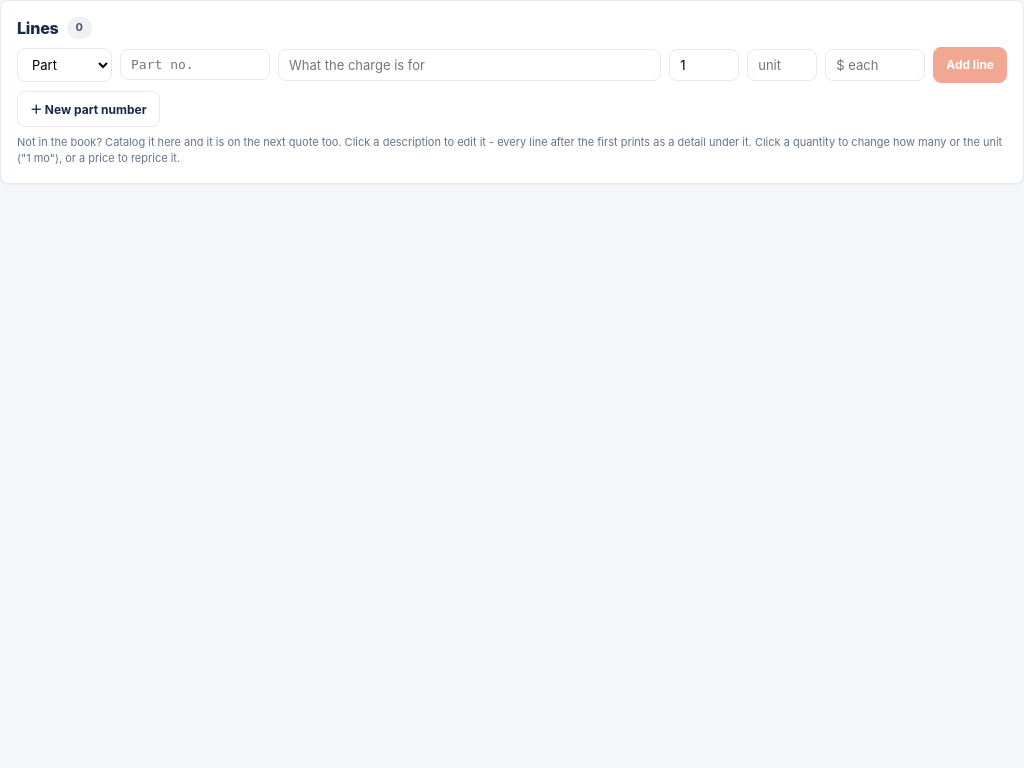
Scenario: a number the book has never heard of › is catalogued from the quote, in the form the parts catalog uses
This screenshot has width=1024, height=768.
Type "NEW-9000" into the field named "Part number" at (195,65), box [120,49,270,80]
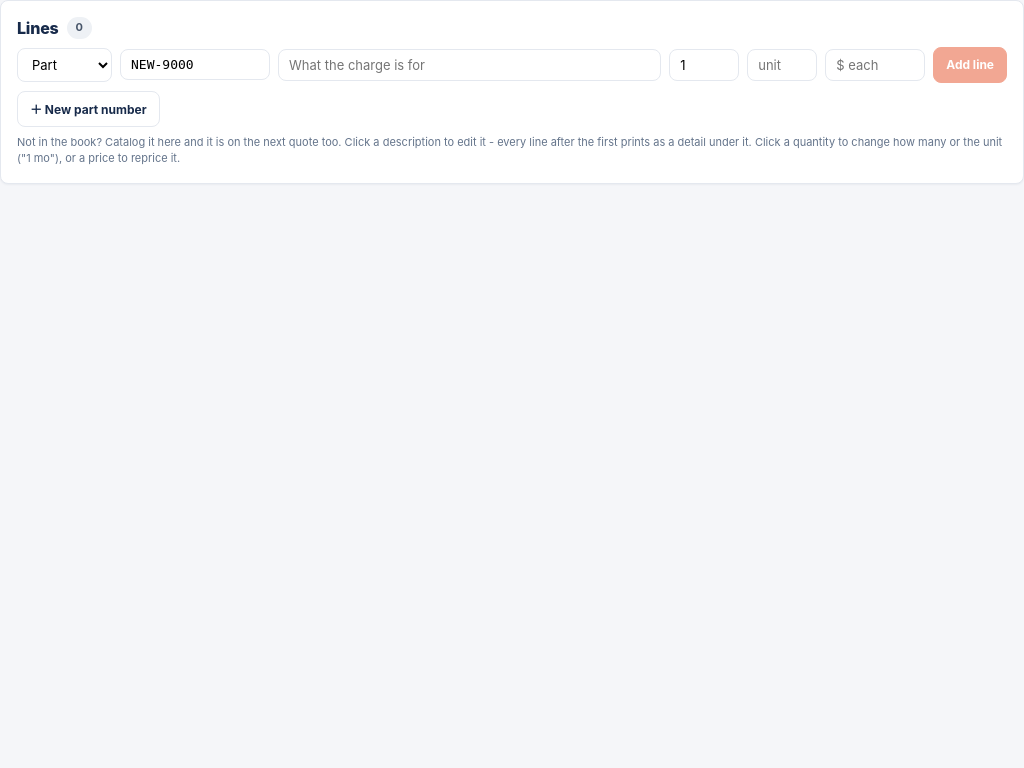
Type "Backing pump" into the field named "Line description" at (470,65), box [278,49,661,81]
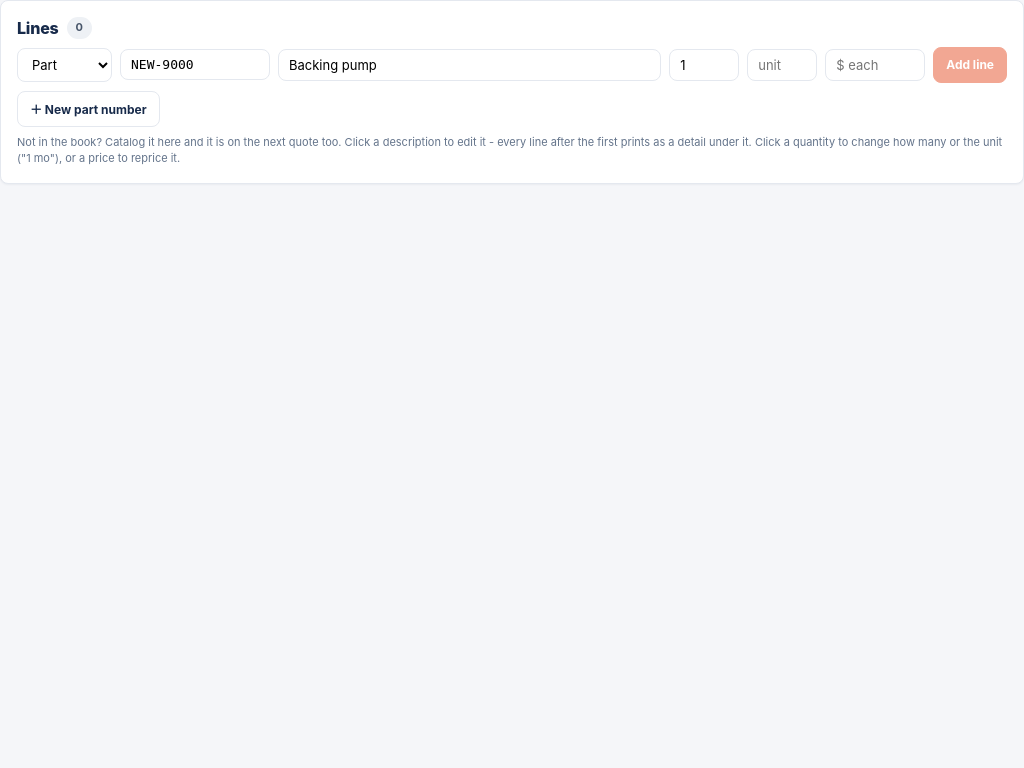
Click the button "＋ New part number" at (88,109), box [17,91,160,127]
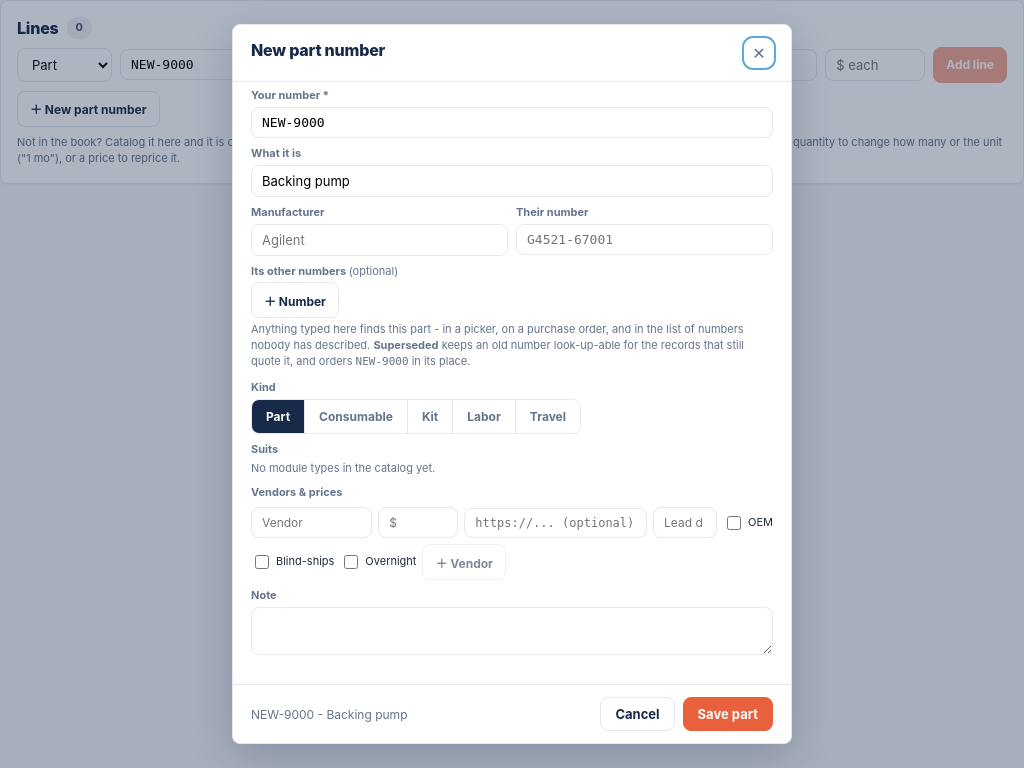
Result: the field labelled "Your number *" holds "NEW-9000" at [251,107,773,138]
Result: the field with placeholder "Agilent 7176 PM Kit" holds "Backing pump" at [251,165,773,197]
